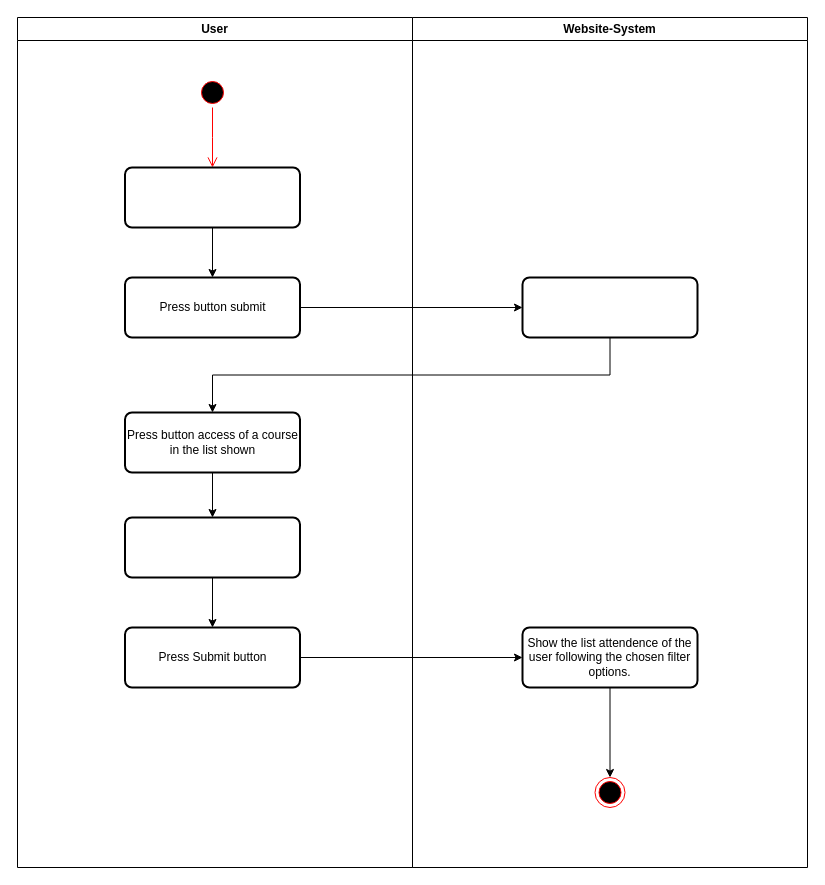
The diagram is 825 pixels wide and 885 high, and some of its shapes have lost their labels. Here are the shapes that lost their labels. From the top down, the centre of each, then its label:
At [212,197]: "Chose Acedamic Year and Semester".
At [609,307]: "Show list of course available in following the chosen Year and Semester".
At [212,547]: "Choose date, status of the filter menu options".
